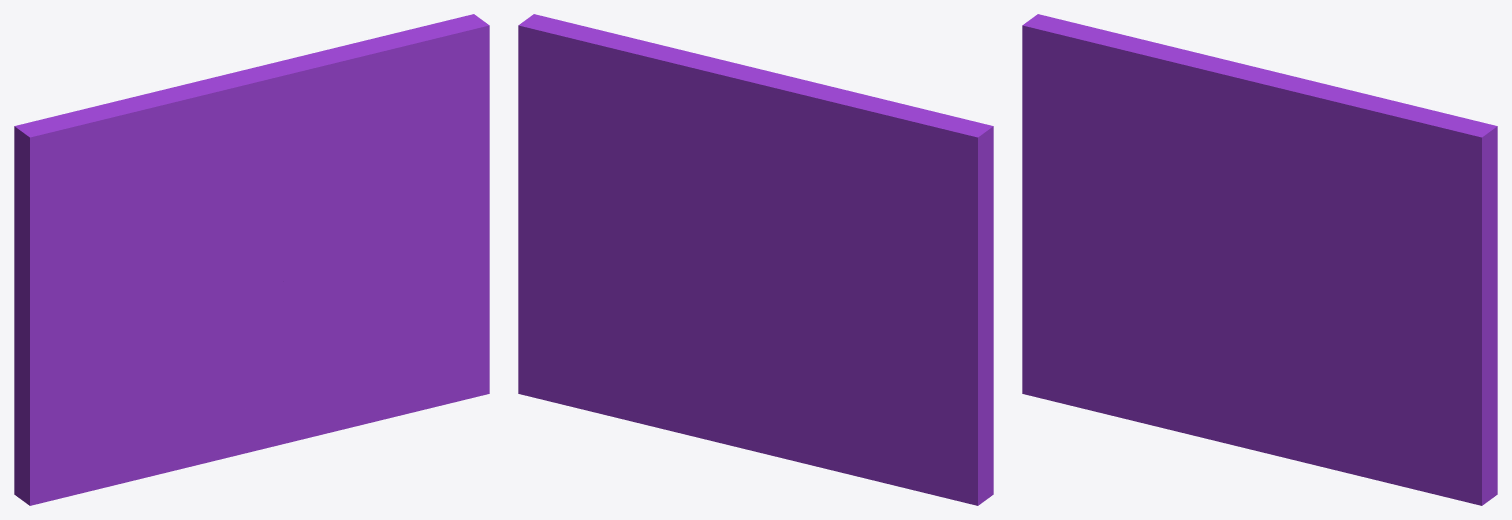
The model's file is Barrier_169_chunks.fbx.
The picture shows the model from 3 angles, left to right: view 1: azimuth 30°, elevation 25°; view 2: azimuth 150°, elevation 25°; view 3: azimuth 330°, elevation 25°; orthographic projection.
Parts seen in each view (by area): view 1: Barrier_169_3, Barrier_169_0, Barrier_169_1, Barrier_169_2; view 2: Barrier_169_3, Barrier_169_0, Barrier_169_1; view 3: Barrier_169_3, Barrier_169_0, Barrier_169_1, Barrier_169_2.
Boxes of the visible parts, x1,y1,x2,y2 form: Barrier_169_3: (268,14,489,426); Barrier_169_0: (14,44,368,321); Barrier_169_1: (14,285,260,505); Barrier_169_2: (199,252,355,449); Barrier_169_3: (518,14,746,429); Barrier_169_0: (644,43,993,309); Barrier_169_1: (666,258,993,505); Barrier_169_3: (1261,95,1497,505); Barrier_169_0: (1022,14,1371,256); Barrier_169_1: (1022,209,1252,449); Barrier_169_2: (1191,255,1348,473).
Bounding box in the file's own units: 376 × 288 × 22.1.
